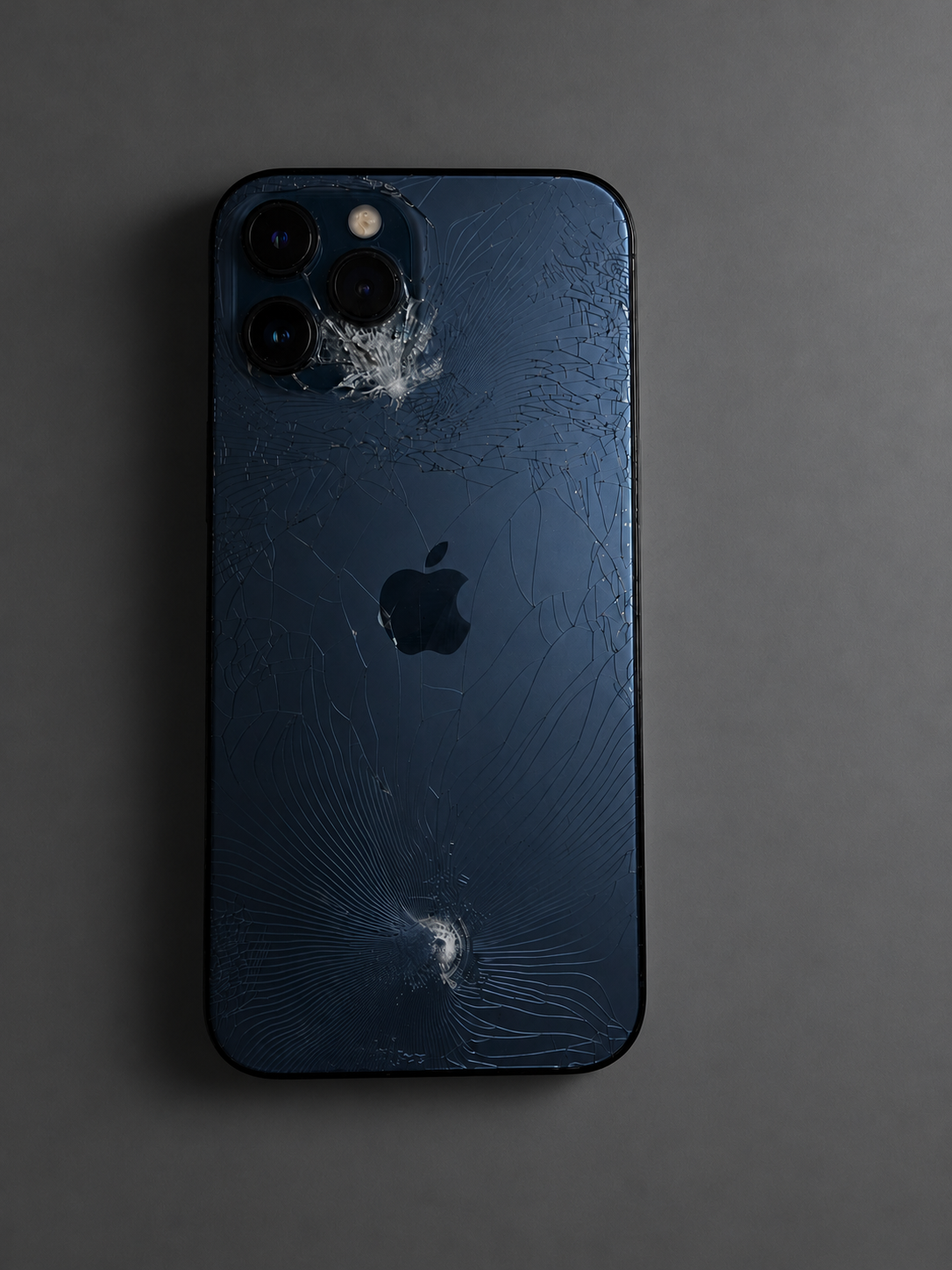iphone_12_pro_max_Crack: (148, 129, 696, 1139)
